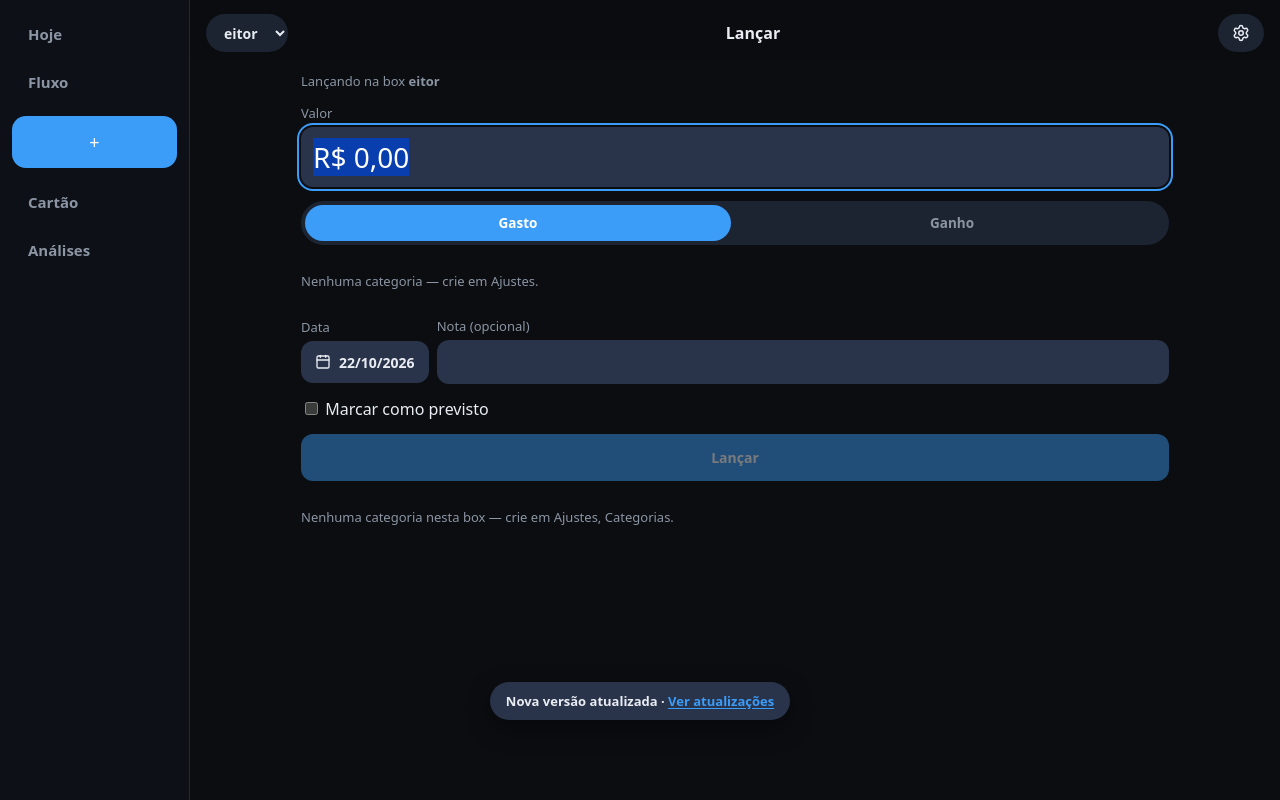
it: mostra o nome da aba atual no topo, entre a box e a engrenagem
Check: the button "Hoje" is shown, box [12, 12, 177, 56]
Click the button named "Ajustes": [1241, 33] box [1218, 14, 1264, 52]
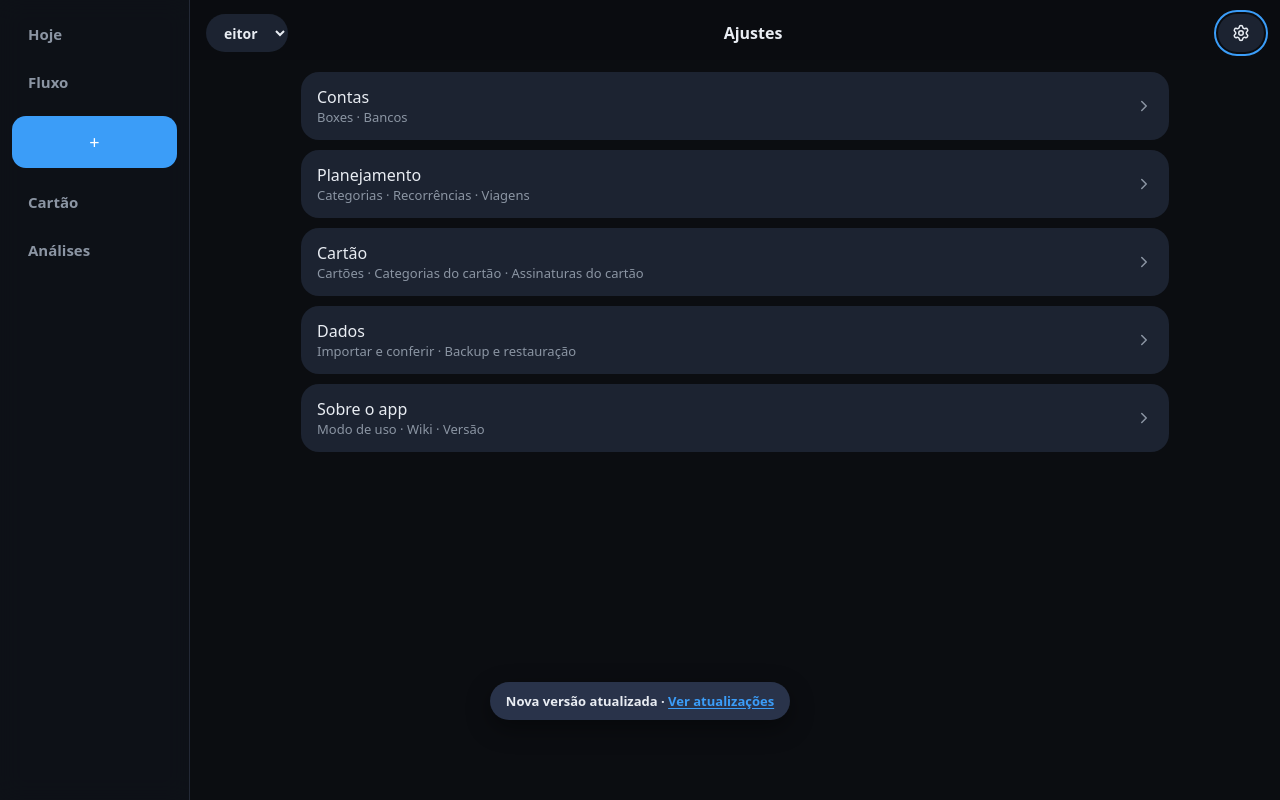
Check: the text "Ajustes" is shown, box [724, 22, 782, 44]
